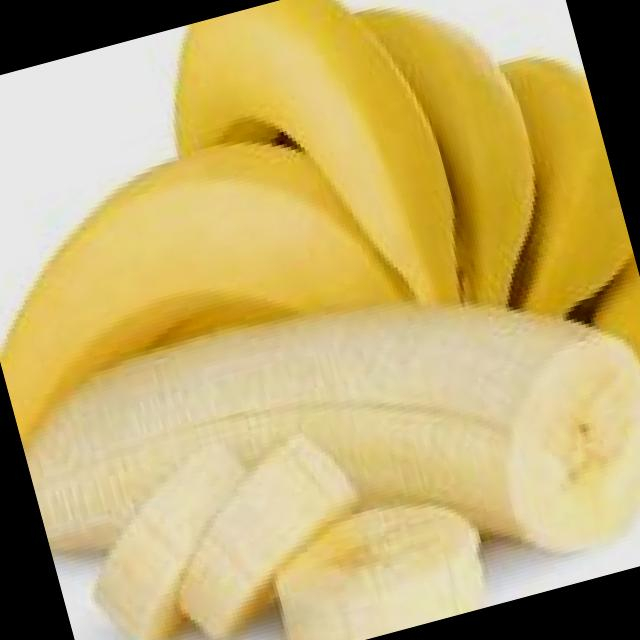banana: (0, 91, 467, 513), (139, 0, 504, 400), (313, 0, 589, 340), (428, 28, 640, 345)
